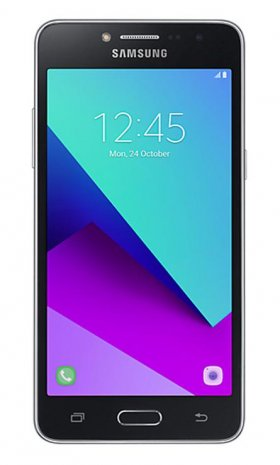Phone: (30, 15, 248, 446)
